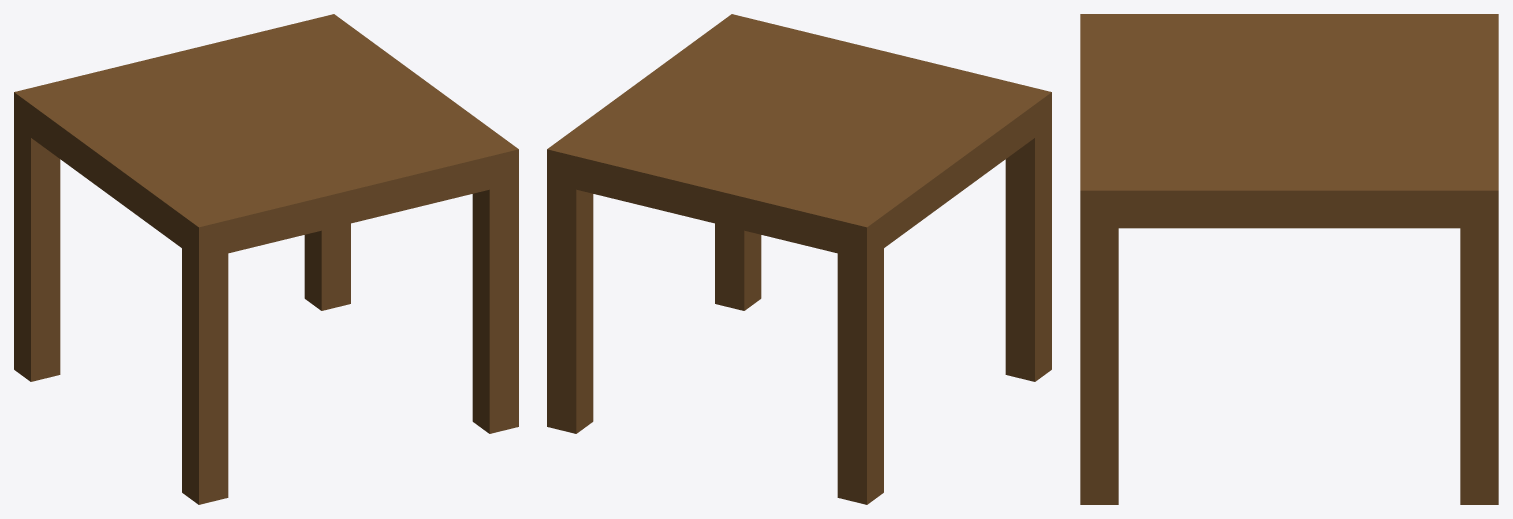
The model's file is table.fbx.
The picture shows the model from 3 angles, left to right: view 1: azimuth 30°, elevation 25°; view 2: azimuth 150°, elevation 25°; view 3: azimuth 270°, elevation 25°; orthographic projection. The views are drawn at different scales.
Parts seen in each view (by area): view 1: Table; view 2: Table; view 3: Table.
Boxes of the visible parts, x1,y1,x2,y2 form: Table: (14,14,518,504); Table: (547,14,1051,504); Table: (1080,14,1498,504).
Bounding box in the file's own units: 200 × 166 × 200.
